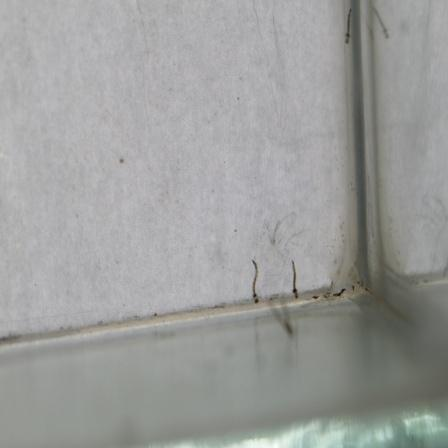Jentik-Nyamuk: (248, 255, 262, 308), (342, 3, 357, 48), (289, 255, 302, 301)
